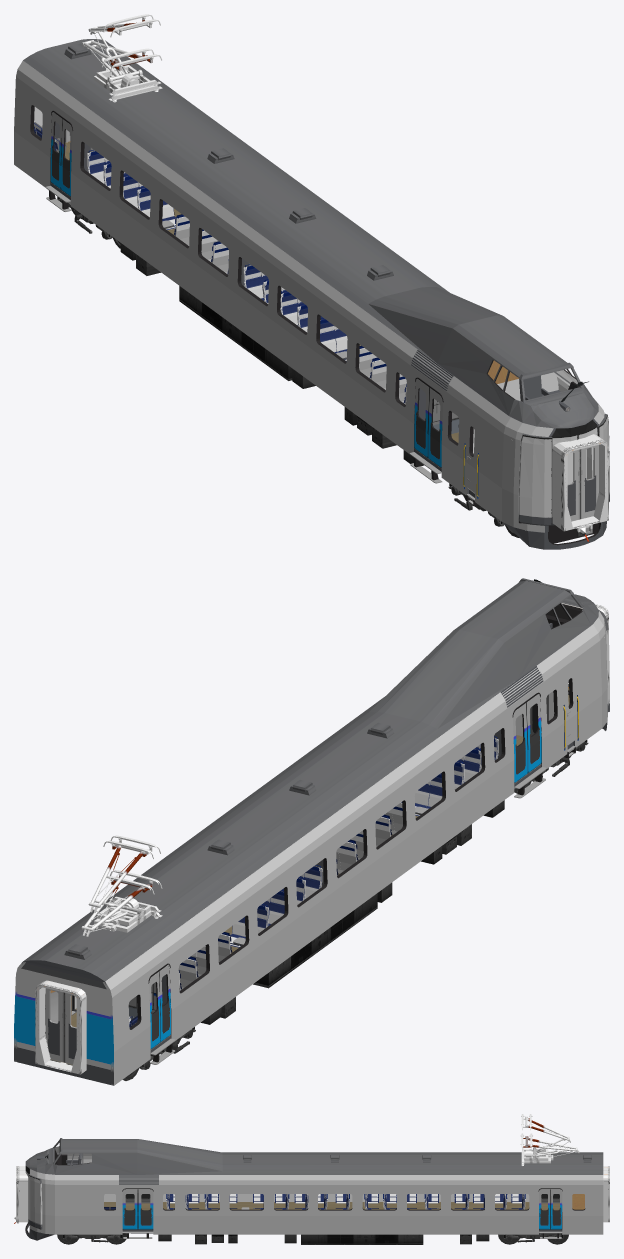
File: nsicmfront_gangway.obj
3 views of the same model, one above another, from view 1: azimuth 30°, elevation 25°; view 2: azimuth 150°, elevation 25°; view 3: azimuth 270°, elevation 25° (orthographic). The views are drawn at different scales.
Parts seen in each view (by area): view 1: side, jibung, chair_second, frontparts, habu, mak, side_front, backdoor, jibungparts, m_panto6m, door_RB, door_RF (+7 smaller); view 2: side, jibung, chair_second, backout, habu, mak, m_panto6m, jibungparts, backdoor, m_panto, door_RF, door_RB (+4 smaller); view 3: side, jibung, chair_second, habu, badak, mak, DT71, frontparts, door_LB, side_front, door_LF, inside (+6 smaller).
Part boxes in pixels (x1,y1,x2,y2): side: [14, 58, 570, 521]; jibung: [23, 39, 598, 428]; chair_second: [87, 150, 406, 404]; frontparts: [502, 381, 609, 549]; habu: [120, 243, 599, 543]; mak: [67, 141, 608, 531]; side_front: [502, 398, 604, 532]; backdoor: [54, 122, 598, 521]; jibungparts: [64, 43, 453, 390]; m_panto6m: [88, 14, 161, 96]; door_RB: [50, 113, 429, 457]; door_RF: [61, 118, 442, 467]; side: [14, 624, 601, 1085]; jibung: [24, 580, 598, 981]; chair_second: [178, 736, 498, 990]; backout: [17, 960, 110, 1084]; habu: [201, 788, 515, 1024]; mak: [35, 604, 608, 1074]; m_panto6m: [88, 835, 161, 925]; jibungparts: [64, 666, 543, 959]; backdoor: [45, 680, 568, 1064]; m_panto: [81, 870, 162, 936]; door_RF: [159, 694, 541, 1041]; door_RB: [149, 703, 527, 1049]; side: [55, 1152, 603, 1234]; jibung: [25, 1139, 603, 1174]; chair_second: [166, 1194, 525, 1209]; habu: [131, 1233, 489, 1244]; badak: [104, 1202, 559, 1210]; mak: [16, 1166, 609, 1222]; DT71: [57, 1233, 568, 1244]; frontparts: [14, 1154, 53, 1240]; door_LB: [138, 1189, 562, 1229]; side_front: [30, 1169, 54, 1234]; door_LF: [122, 1189, 550, 1229]; inside: [67, 1159, 529, 1201].
Bounding box in the file's own units: 3.17 × 5.74 × 26.18.
